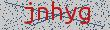g: (78, 4, 96, 28)
h: (50, 1, 64, 27)
j: (19, 2, 36, 27)
n: (36, 4, 50, 26)
y: (64, 3, 78, 27)
